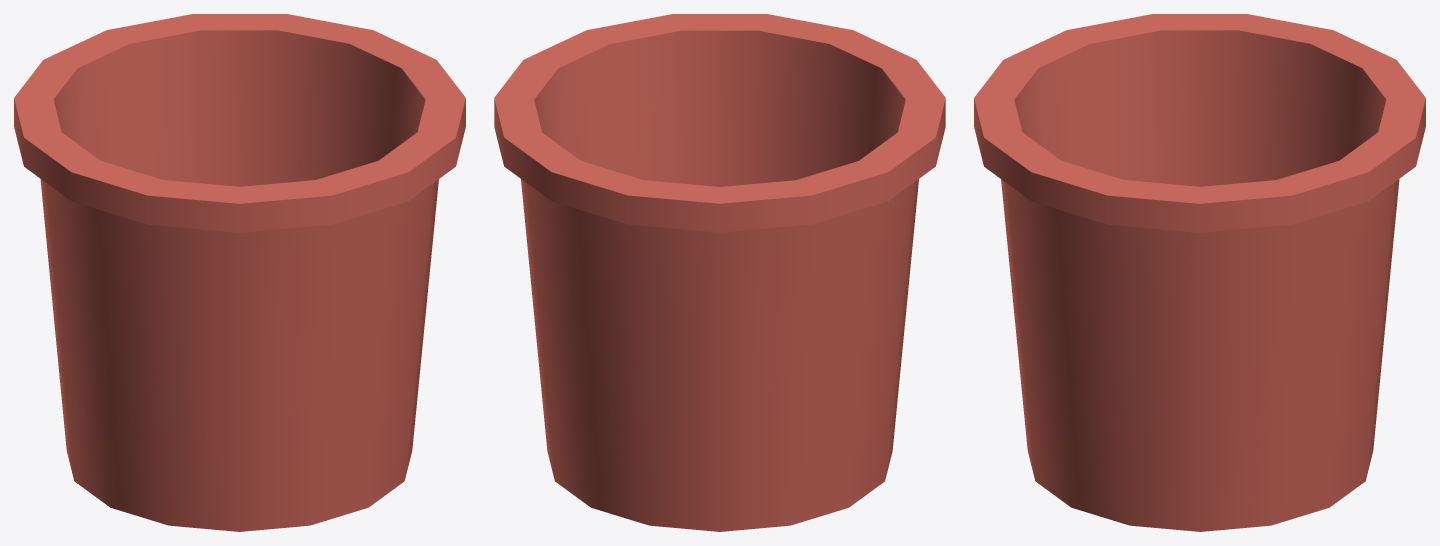
File: PlasticBucket.fbx
3 views of the same model, side by side, from view 1: azimuth 30°, elevation 25°; view 2: azimuth 150°, elevation 25°; view 3: azimuth 270°, elevation 25° (orthographic).
Visible parts, largest first — view 1: PlasticBucket; view 2: PlasticBucket; view 3: PlasticBucket.
Boxes of the visible parts, <box> form: PlasticBucket: <box>14,14,465,531</box>; PlasticBucket: <box>494,14,945,531</box>; PlasticBucket: <box>974,14,1425,531</box>.
Bounding box in the file's own units: 1.61 × 1.39 × 1.62.
